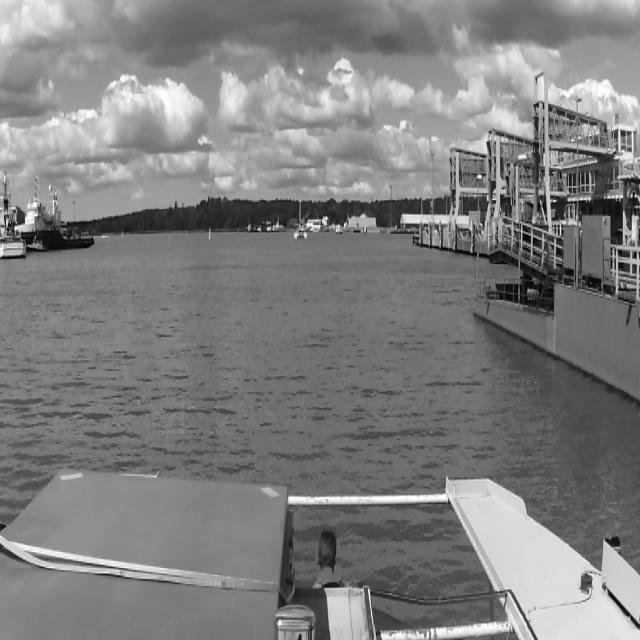buoy: (207, 227, 212, 239)
ship: (293, 182, 309, 244)
